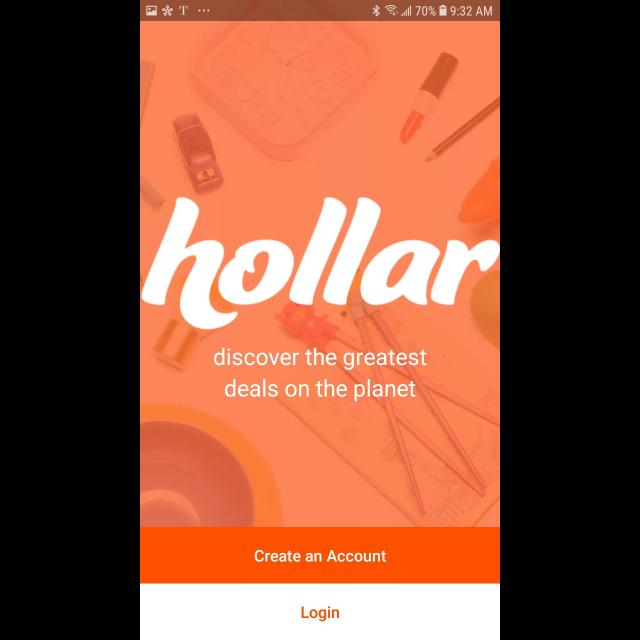backgroundimage: (140, 21, 500, 526)
image: (142, 198, 500, 330)
text: (214, 348, 426, 402)
textbutton: (140, 527, 500, 583), (140, 584, 500, 640)
uppertaskbar: (140, 1, 500, 22)
